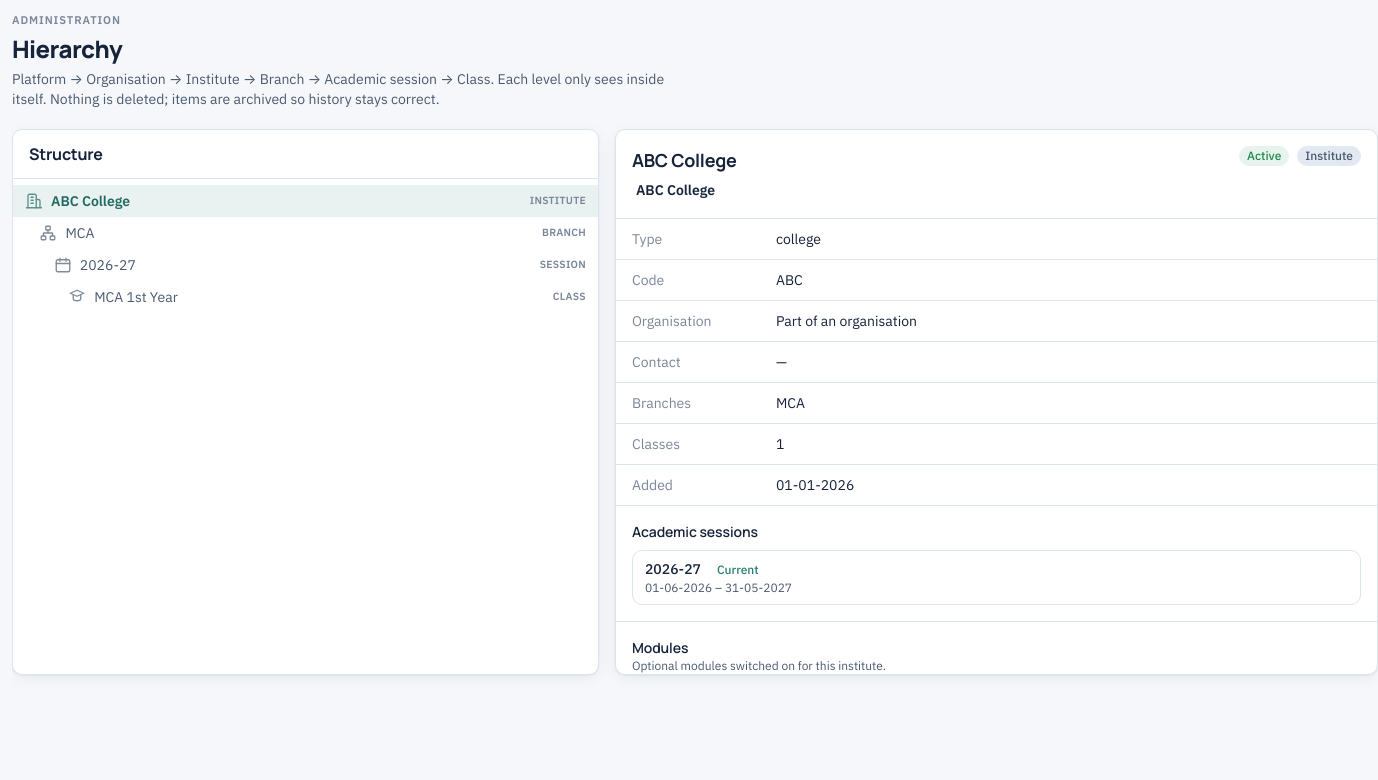
Test: InstitutesPage › does not fetch the student roster without enrollment:manage
Click the list item "MCA 1st Year Class": (136, 297) x1=13 y1=281 x2=598 y2=313
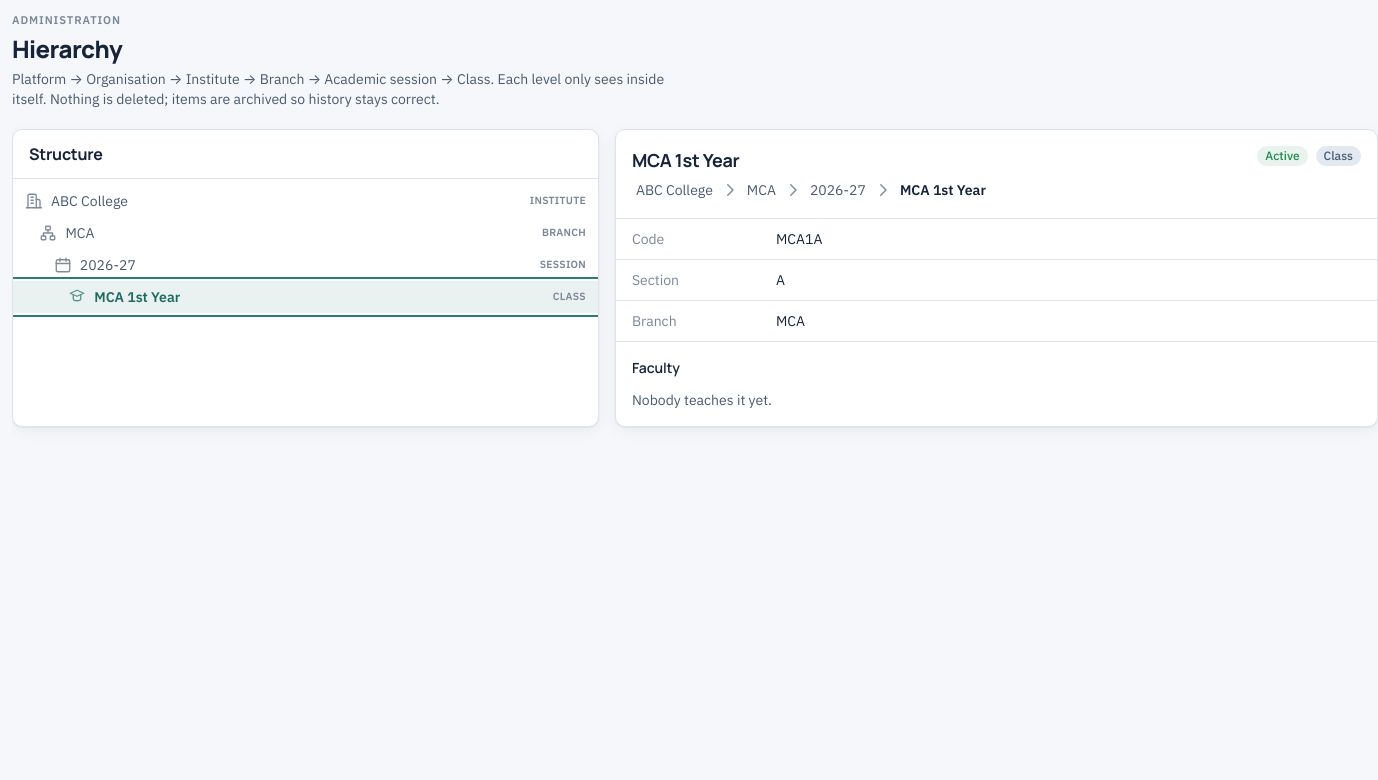
Expected: the element "Faculty" is shown, x1=616 y1=341 x2=1377 y2=426
